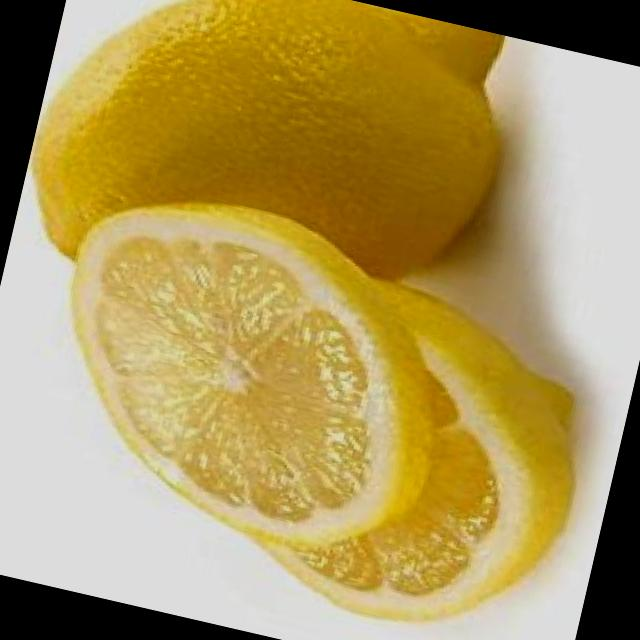lemon: (13, 0, 530, 353), (31, 176, 474, 576)
